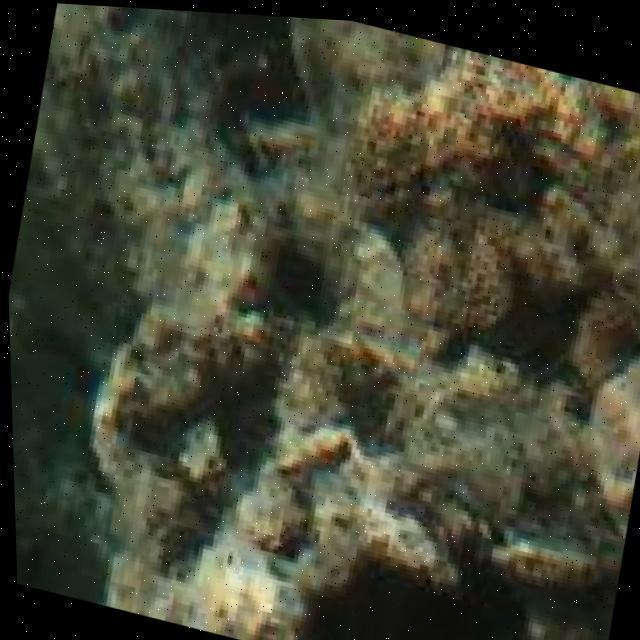Dead Coral: (101, 291, 381, 557), (359, 94, 640, 317)
